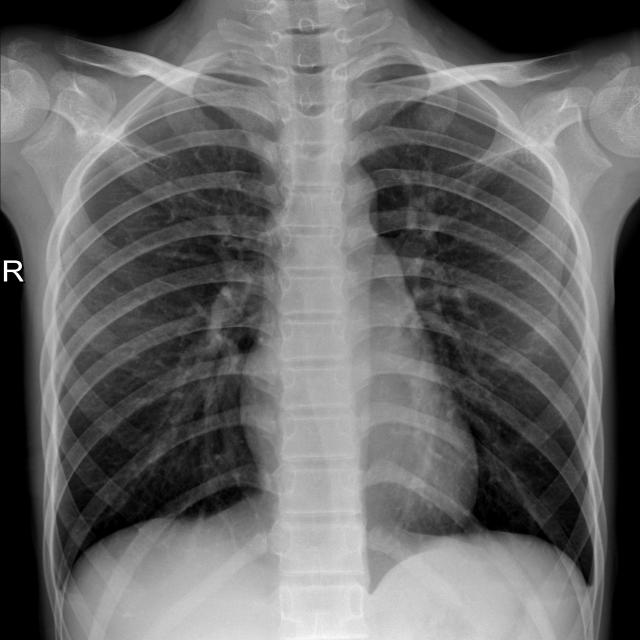no-pneumonia: (45, 90, 282, 587), (359, 91, 595, 579)
